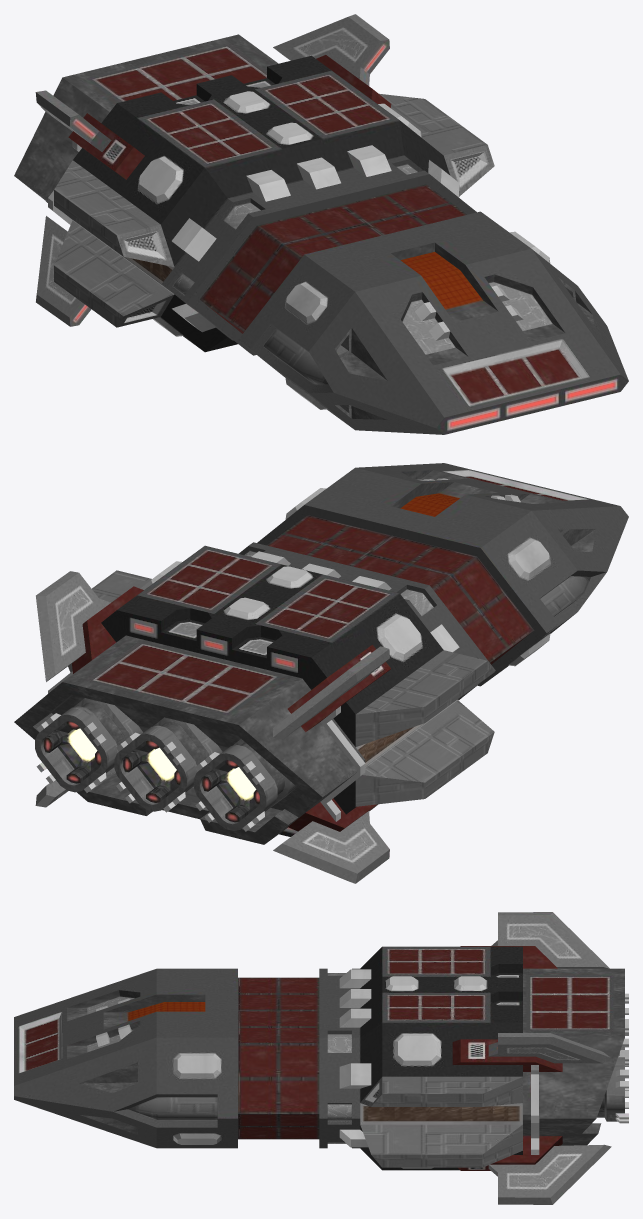
Rendered from cruiser-1-3.glb.
3 renders of one model, top to bottom at view 1: azimuth 30°, elevation 25°; view 2: azimuth 150°, elevation 25°; view 3: azimuth 270°, elevation 25°, orthographic. The views are drawn at different scales.
Visible parts, largest first — view 1: cruiser-1-3_0; view 2: cruiser-1-3_0; view 3: cruiser-1-3_0.
Part boxes in pixels (x1,y1,x2,y2): cruiser-1-3_0: [14, 14, 628, 434]; cruiser-1-3_0: [14, 463, 628, 883]; cruiser-1-3_0: [14, 912, 628, 1204].
Bounding box in the file's own units: 0.5572 × 0.3033 × 1.
1 material, 1 textured.
